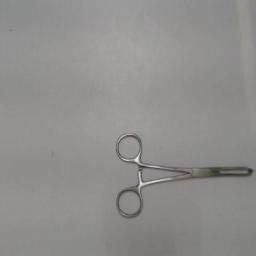Allis Tissue Forceps: (112, 129, 256, 221)
